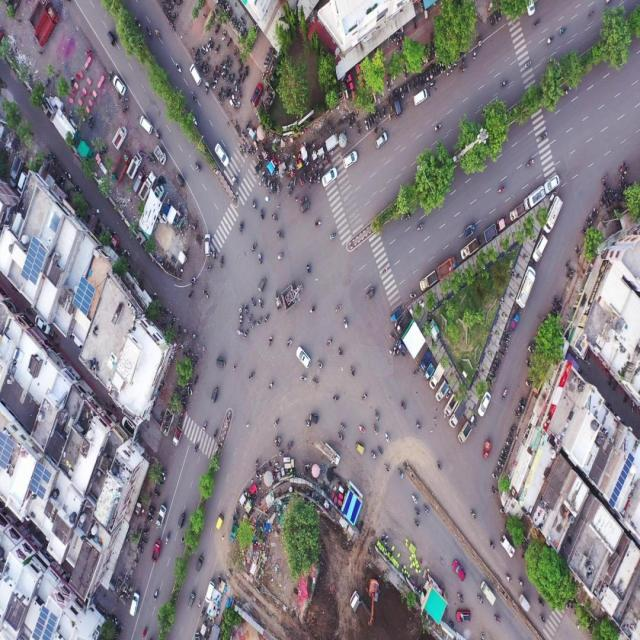3W: (481, 439, 494, 463), (462, 220, 476, 238), (255, 276, 268, 294), (195, 555, 206, 576), (176, 511, 187, 531), (106, 30, 117, 49), (174, 172, 186, 189), (214, 514, 226, 531), (354, 440, 365, 458), (214, 356, 226, 372), (187, 588, 196, 609), (364, 287, 377, 301), (210, 386, 220, 404), (309, 410, 319, 424), (301, 201, 311, 213)
Cars: (532, 233, 548, 262), (544, 172, 563, 194), (451, 558, 468, 582), (478, 390, 492, 418), (213, 144, 230, 167), (296, 344, 310, 371), (186, 62, 202, 84), (129, 589, 141, 618), (455, 607, 472, 627), (500, 534, 514, 558), (138, 116, 155, 135), (321, 168, 337, 188), (250, 82, 263, 106), (342, 150, 358, 169), (391, 87, 401, 117), (113, 74, 126, 95), (374, 131, 388, 150), (413, 89, 427, 108), (205, 580, 215, 602), (204, 232, 211, 260)
LCV: (515, 267, 536, 307), (543, 198, 562, 234), (524, 185, 546, 207), (140, 173, 156, 200), (442, 393, 459, 418), (419, 270, 438, 292), (323, 443, 341, 465), (111, 125, 128, 148), (128, 153, 142, 180), (438, 256, 454, 279), (131, 167, 145, 193), (481, 580, 496, 604), (430, 361, 443, 388), (154, 141, 168, 166), (458, 421, 472, 446), (150, 537, 162, 566), (508, 202, 526, 221), (156, 504, 168, 532), (460, 240, 478, 258), (325, 132, 339, 150), (172, 426, 182, 448), (510, 313, 520, 333), (388, 308, 401, 322), (397, 340, 407, 357), (425, 364, 434, 380)
M2W: (454, 588, 466, 604), (522, 58, 534, 71), (267, 329, 275, 348), (267, 376, 275, 394), (467, 509, 479, 521), (324, 335, 335, 348), (516, 577, 526, 591), (410, 493, 420, 507), (397, 400, 408, 412), (525, 157, 535, 170), (501, 386, 509, 402), (218, 253, 225, 271), (306, 259, 313, 277), (493, 612, 502, 626), (475, 592, 484, 606), (336, 345, 344, 360), (248, 367, 256, 382), (270, 212, 280, 224), (536, 595, 546, 607), (557, 25, 567, 37), (538, 131, 548, 143), (317, 358, 325, 373), (332, 390, 339, 407), (497, 183, 506, 196), (349, 364, 356, 380), (309, 302, 316, 318), (194, 160, 202, 174), (141, 624, 148, 640), (490, 472, 500, 483), (133, 16, 142, 28), (272, 418, 281, 430), (563, 258, 572, 270), (505, 570, 512, 585), (201, 419, 208, 434), (334, 303, 342, 316), (257, 251, 265, 264), (488, 540, 496, 553), (377, 444, 385, 457), (286, 335, 292, 352), (278, 248, 284, 265), (408, 289, 418, 299), (416, 222, 425, 233), (500, 78, 509, 89), (545, 34, 554, 45), (153, 588, 160, 602), (191, 90, 198, 104), (414, 419, 422, 431), (342, 315, 348, 331), (259, 206, 265, 222), (231, 174, 239, 186), (423, 502, 429, 518), (154, 128, 162, 140), (361, 389, 368, 402), (340, 420, 347, 433), (539, 612, 546, 625), (359, 421, 365, 436), (371, 448, 377, 463), (380, 267, 390, 276), (433, 123, 442, 133), (164, 531, 170, 546), (212, 426, 218, 441), (122, 104, 131, 114), (428, 79, 437, 89), (399, 86, 405, 101), (414, 518, 422, 529), (375, 408, 381, 422), (238, 222, 244, 236), (251, 242, 257, 256), (314, 218, 321, 230), (436, 458, 442, 472), (193, 440, 199, 454), (107, 69, 113, 83), (155, 26, 161, 40), (176, 61, 182, 75), (276, 231, 285, 240), (413, 506, 421, 516), (372, 423, 378, 436), (258, 296, 264, 309), (200, 607, 206, 620), (472, 49, 478, 62), (237, 303, 243, 316), (251, 199, 257, 212), (214, 22, 220, 35), (237, 328, 244, 339), (330, 231, 337, 242), (533, 17, 540, 28), (300, 374, 306, 386), (256, 316, 262, 328), (146, 26, 152, 38), (204, 264, 213, 272), (238, 315, 244, 327), (233, 46, 239, 58), (194, 47, 200, 59), (86, 113, 92, 125), (501, 344, 509, 353), (574, 245, 580, 257), (405, 212, 412, 222), (383, 463, 390, 473), (506, 430, 513, 440), (513, 412, 520, 422), (478, 36, 483, 50), (493, 11, 498, 25), (384, 431, 390, 442), (265, 311, 271, 322), (298, 176, 304, 187), (209, 40, 215, 51), (212, 65, 218, 76), (70, 75, 75, 88), (251, 294, 255, 310), (121, 96, 129, 104), (213, 246, 217, 262), (146, 510, 154, 518), (518, 402, 526, 410), (458, 66, 467, 73), (524, 380, 531, 389), (170, 12, 177, 21), (338, 430, 343, 442), (244, 328, 249, 340), (398, 467, 403, 479), (498, 349, 504, 359), (356, 124, 361, 136), (205, 66, 211, 76), (205, 81, 209, 96), (212, 80, 218, 90), (217, 87, 223, 97), (150, 153, 156, 163), (179, 536, 185, 546), (138, 542, 143, 554), (410, 78, 415, 90), (489, 17, 494, 29), (244, 302, 248, 316), (478, 232, 482, 246), (351, 114, 355, 128), (168, 22, 175, 30), (509, 424, 516, 432), (565, 273, 573, 280), (373, 122, 378, 133), (215, 43, 220, 54), (225, 54, 230, 65), (552, 295, 557, 306), (402, 84, 407, 95), (219, 60, 225, 69), (223, 86, 229, 95), (142, 529, 151, 535), (140, 538, 149, 544), (251, 318, 255, 331), (382, 105, 386, 118), (303, 171, 307, 184), (293, 174, 297, 187), (264, 174, 268, 187), (425, 71, 429, 84), (324, 155, 329, 165), (222, 30, 227, 40), (364, 119, 368, 131), (244, 65, 248, 77), (234, 80, 238, 92), (207, 36, 211, 48), (199, 49, 207, 55), (231, 514, 237, 522), (502, 446, 510, 452), (568, 267, 574, 275), (549, 308, 557, 314), (501, 339, 509, 345), (407, 81, 411, 93), (288, 187, 293, 196), (288, 179, 293, 188), (348, 118, 352, 129), (320, 163, 324, 174), (381, 531, 385, 542), (416, 77, 420, 88), (429, 67, 433, 78), (461, 53, 465, 64), (378, 107, 381, 121), (314, 170, 317, 184), (140, 150, 147, 156), (153, 492, 160, 498), (498, 457, 505, 463), (505, 440, 511, 447), (238, 63, 242, 73), (226, 74, 230, 84), (227, 38, 231, 48), (277, 182, 280, 194), (273, 182, 276, 194), (262, 170, 265, 182), (242, 144, 245, 156), (228, 61, 232, 70), (203, 46, 209, 52), (496, 467, 502, 473), (423, 74, 426, 86), (146, 156, 151, 163), (148, 507, 155, 512), (498, 461, 503, 468), (492, 363, 499, 368), (238, 88, 241, 99), (231, 73, 234, 84), (91, 118, 94, 129), (437, 63, 440, 74), (370, 116, 373, 126), (235, 508, 238, 518), (505, 331, 511, 336), (494, 358, 500, 363), (387, 81, 390, 91), (503, 336, 510, 340), (241, 73, 244, 82), (385, 535, 388, 544), (368, 118, 370, 130), (318, 172, 320, 184), (420, 75, 422, 87), (433, 67, 435, 79), (435, 65, 437, 77), (240, 145, 242, 156), (238, 74, 240, 84)
Truck: (348, 591, 374, 631), (35, 6, 57, 42), (112, 151, 130, 183)
